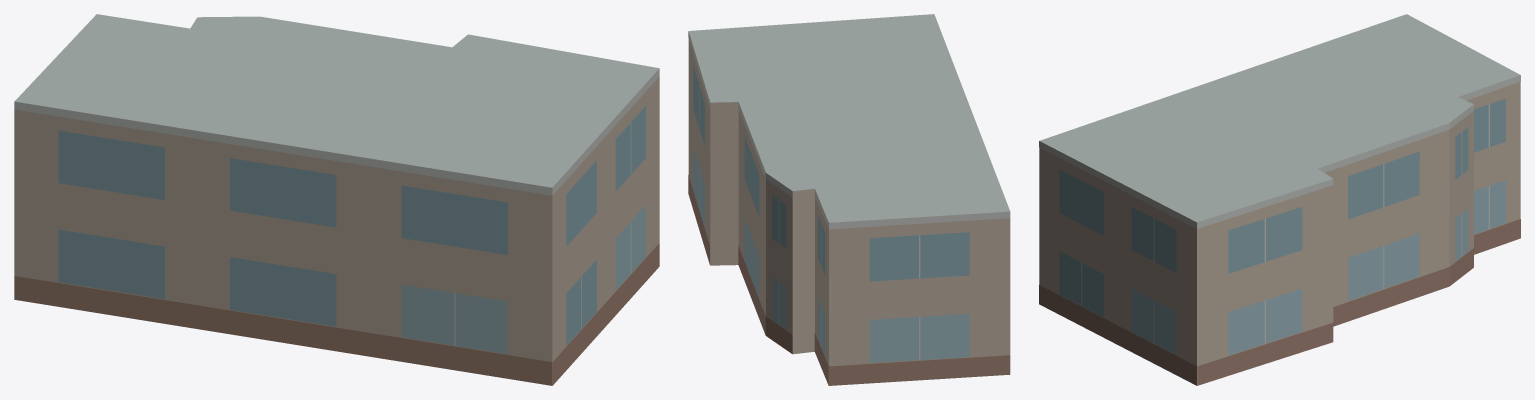
File: survey-upis-33025303.glb
3 renders of one model, left to right at view 1: azimuth 30°, elevation 25°; view 2: azimuth 150°, elevation 25°; view 3: azimuth 270°, elevation 25°, orthographic. The views are drawn at different scales.
Parts seen in each view (by area): view 1: survey-upis-33025303.tmp; view 2: survey-upis-33025303.tmp; view 3: survey-upis-33025303.tmp.
Part boxes in pixels (box(x1,y1,x2,y2)): survey-upis-33025303.tmp: box(14, 14, 659, 385); survey-upis-33025303.tmp: box(688, 14, 1010, 385); survey-upis-33025303.tmp: box(1039, 14, 1520, 385).
Bounding box in the file's own units: 16.7 × 6.1 × 16.3.
